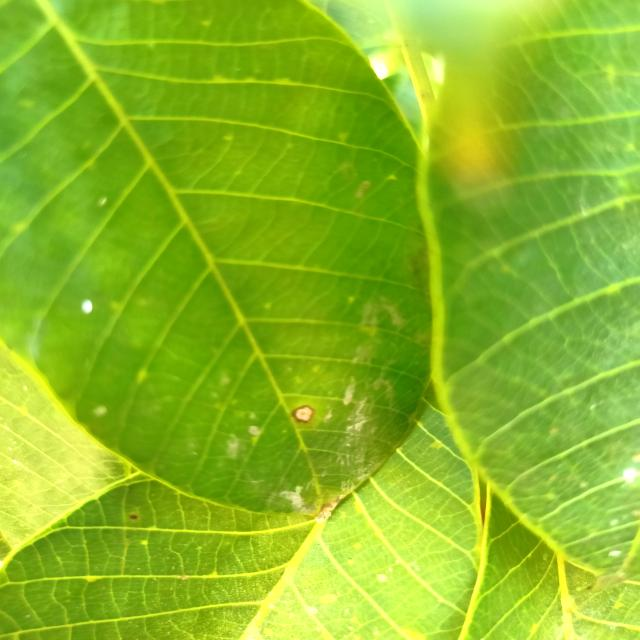Colletotrichum: (292, 404, 314, 424)
Leaf-Blight: (314, 501, 339, 524)
